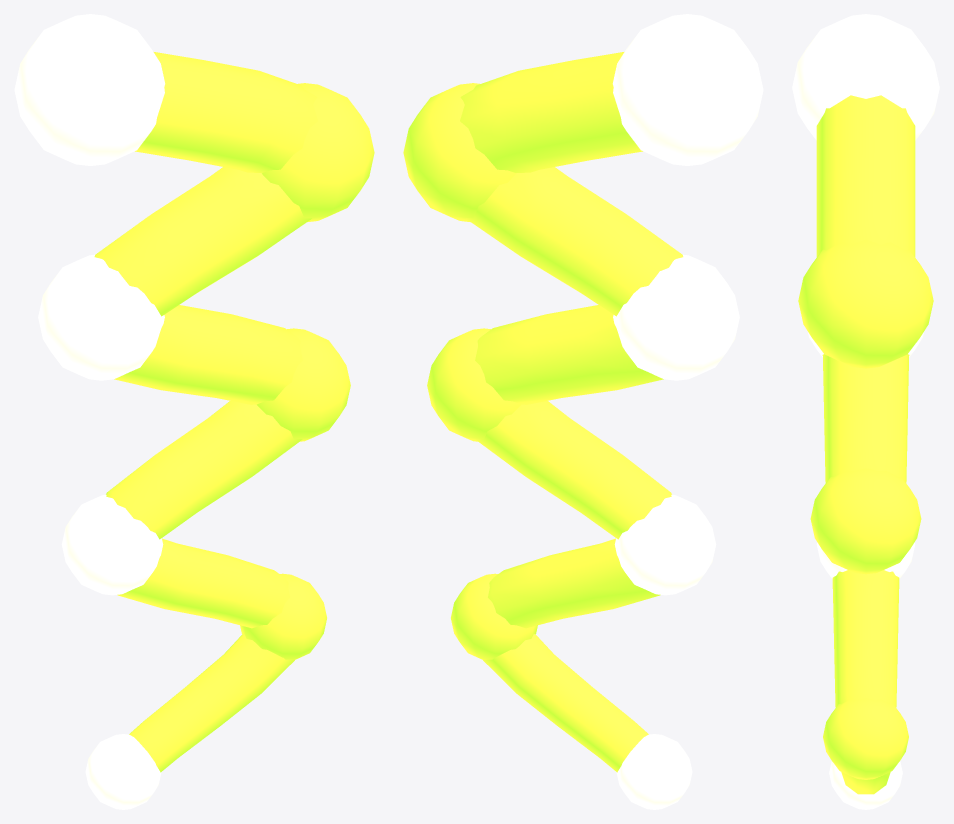
The model's file is bomb_squiggly.glb.
3 renders of one model, left to right at view 1: azimuth 30°, elevation 25°; view 2: azimuth 150°, elevation 25°; view 3: azimuth 270°, elevation 25°, orthographic. The views are drawn at different scales.
Visible parts, largest first — view 1: bomb_squiggly; view 2: bomb_squiggly; view 3: bomb_squiggly.
Boxes of the visible parts, x1,y1,x2,y2 form: bomb_squiggly: (14,14,374,809); bomb_squiggly: (403,14,763,809); bomb_squiggly: (792,14,939,809).
Bounding box in the file's own units: 0.155 × 0.345 × 0.06.
